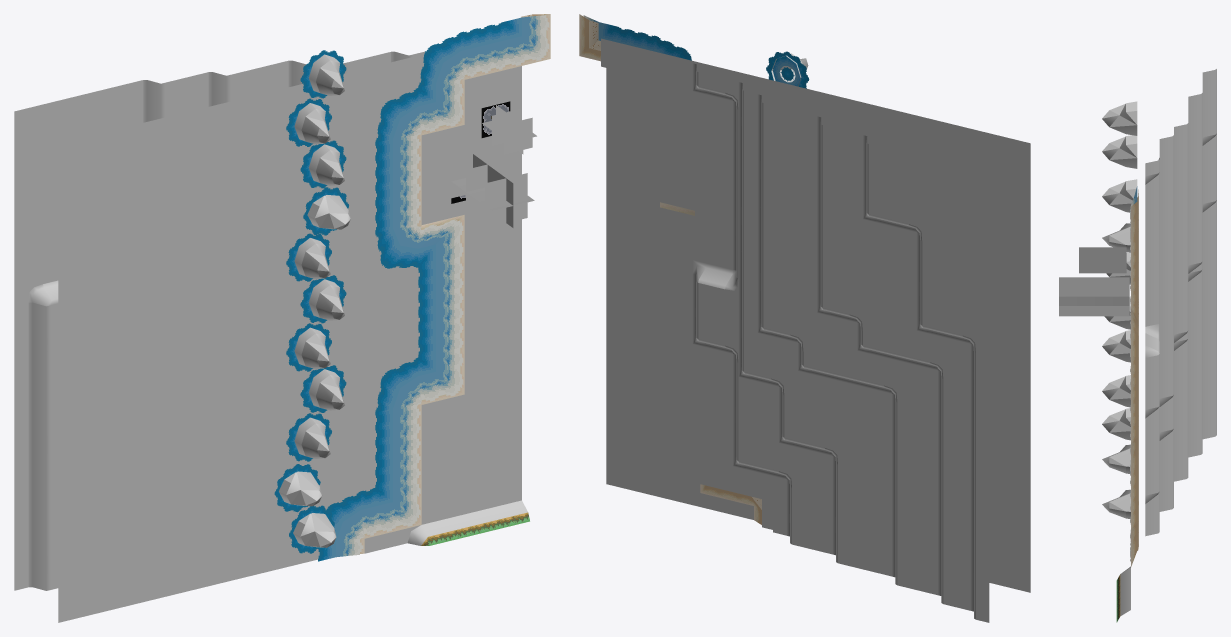
File: Barrier-Reef_00_04.obj
The picture shows the model from 3 angles, left to right: view 1: azimuth 30°, elevation 25°; view 2: azimuth 150°, elevation 25°; view 3: azimuth 270°, elevation 25°; orthographic projection. The views are drawn at different scales.
Visible parts, largest first — view 1: map; view 2: map; view 3: map.
Boxes of the visible parts, x1=… form: map: x1=14, y1=14, x2=550, y2=622; map: x1=579, y1=14, x2=1030, y2=622; map: x1=1059, y1=69, x2=1216, y2=622.
Size of the model in its own units: 34 by 34.11 by 11.03.
